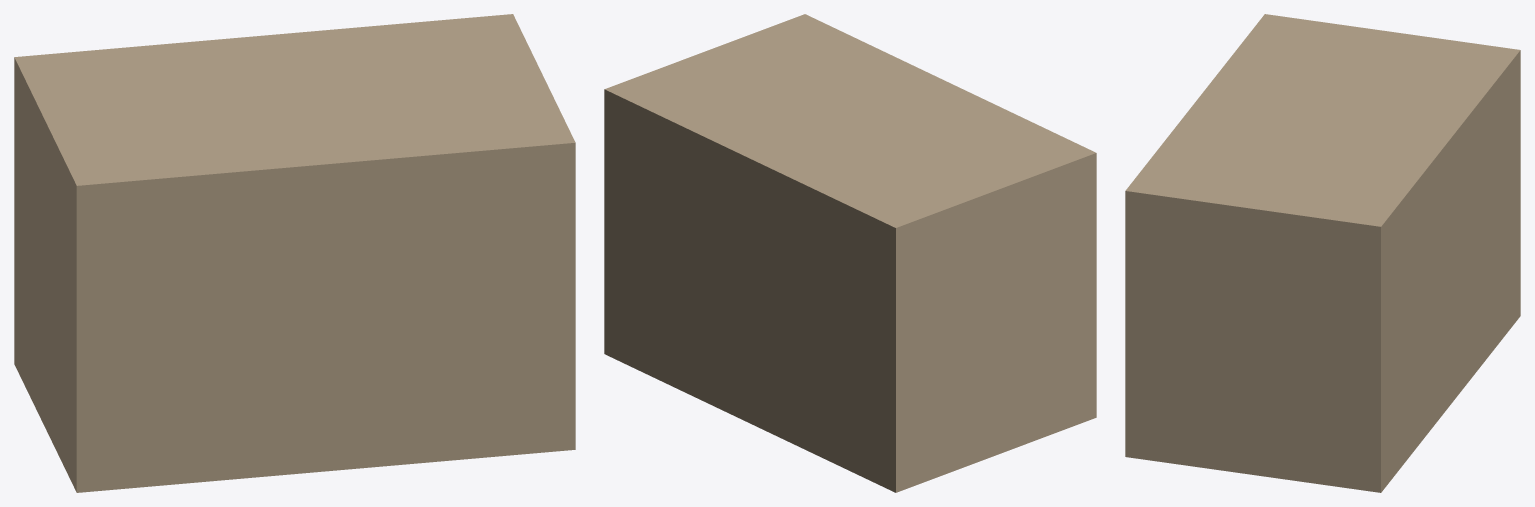
The model's file is bld_101524448.dae.
3 renders of one model, left to right at view 1: azimuth 30°, elevation 25°; view 2: azimuth 150°, elevation 25°; view 3: azimuth 270°, elevation 25°, orthographic. The views are drawn at different scales.
Visible parts, largest first — view 1: bld_101524448; view 2: bld_101524448; view 3: bld_101524448.
Part boxes in pixels (x1,y1,x2,y2): bld_101524448: (14,14,575,492); bld_101524448: (604,14,1096,492); bld_101524448: (1125,14,1520,492).
Bounding box in the file's own units: 13.73 × 10.77 × 8.
